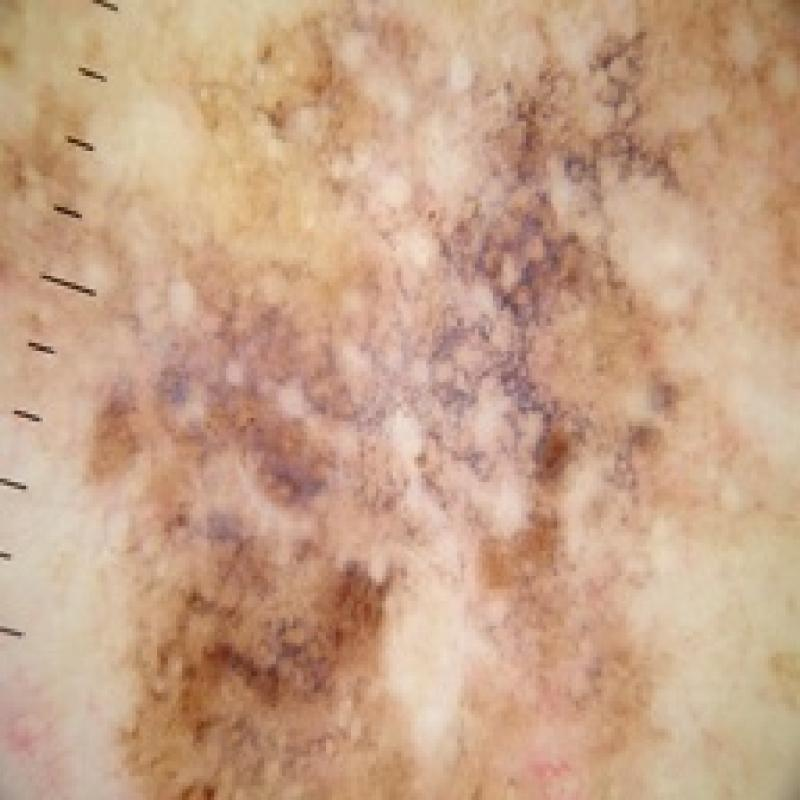malignant: (57, 28, 668, 738)
